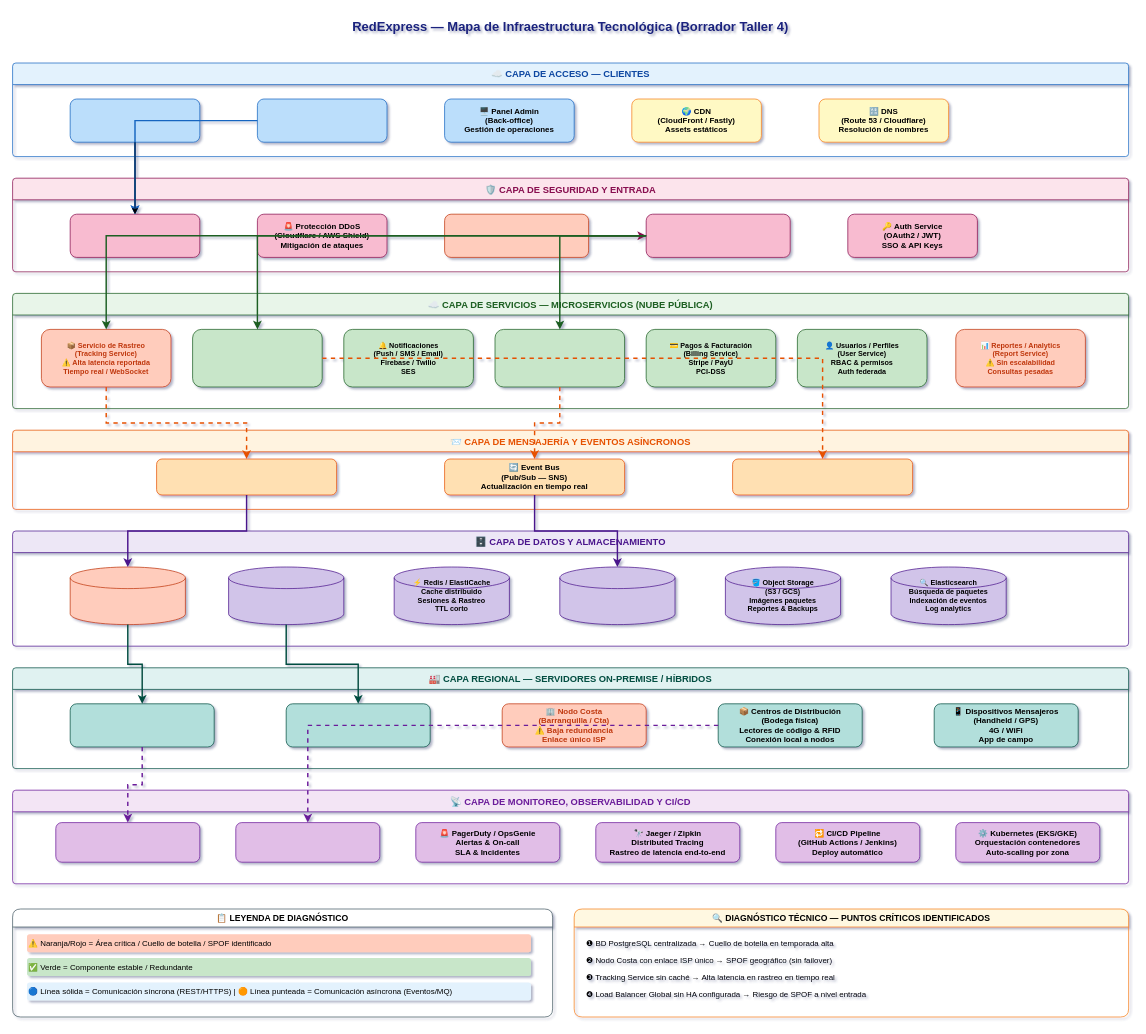
Image size: 1146x1034. Some labels were removed from this diagram. Each missing label, with the centre of its shape:
⚖️ Load Balancer Global (L7 — HTTPS) ⚠️ Posible SPOF si no es HA: [516,235]
⚡ Apache Kafka / SQS (Message Broker) Eventos de estado de paquetes: [246,476]
🌐 Plataforma Web (Clientes / Admins) HTTPS / SPA: [322,120]
🏢 Nodo Norte (Bogotá / Medellín) Servidor físico + VPN Procesamiento local rutas: [141,725]
🏢 Nodo Sur (Cali / Pasto) Servidor físico + VPN Sincronización cada 5 min: [357,725]
📄 MongoDB Atlas Eventos / Logs Historial de estados NoSQL: [617,595]
📈 Prometheus + Grafana Métricas de servicios Dashboards en tiempo real: [127,842]
📋 Gestión de Paquetes (Package Service) CRUD estados & eventos REST API: [559,358]
📬 Cola de Rutas (RabbitMQ / SQS) Procesamiento asíncrono: [822,476]
📱 App Móvil (Mensajeros / Clientes) iOS & Android: [134,120]
🔀 API Gateway (Kong / AWS API GW) Routing, Auth, Rate Limit: [717,235]
🔒 WAF (Web Application Firewall) Filtrado de amenazas: [134,235]
🗃️ BD Principal PostgreSQL (Master) ⚠️ BD Centralizada Cuello de botella pico: [127,595]
🗃️ BD Réplica (Read) PostgreSQL (Replica) Solo lectura / Reportes: [286,595]
🗺️ Motor de Rutas (Route Engine) Algoritmos de optimización Carga pico: Navidad: [257,358]
🪵 ELK Stack / Loki Centralización de logs Búsqueda y análisis: [307,842]
